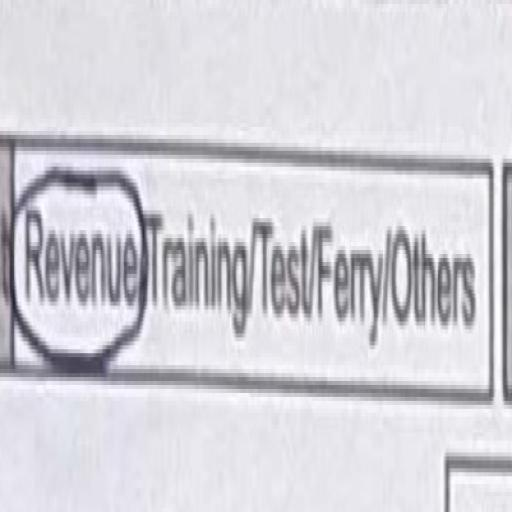check: (16, 72, 140, 506)
